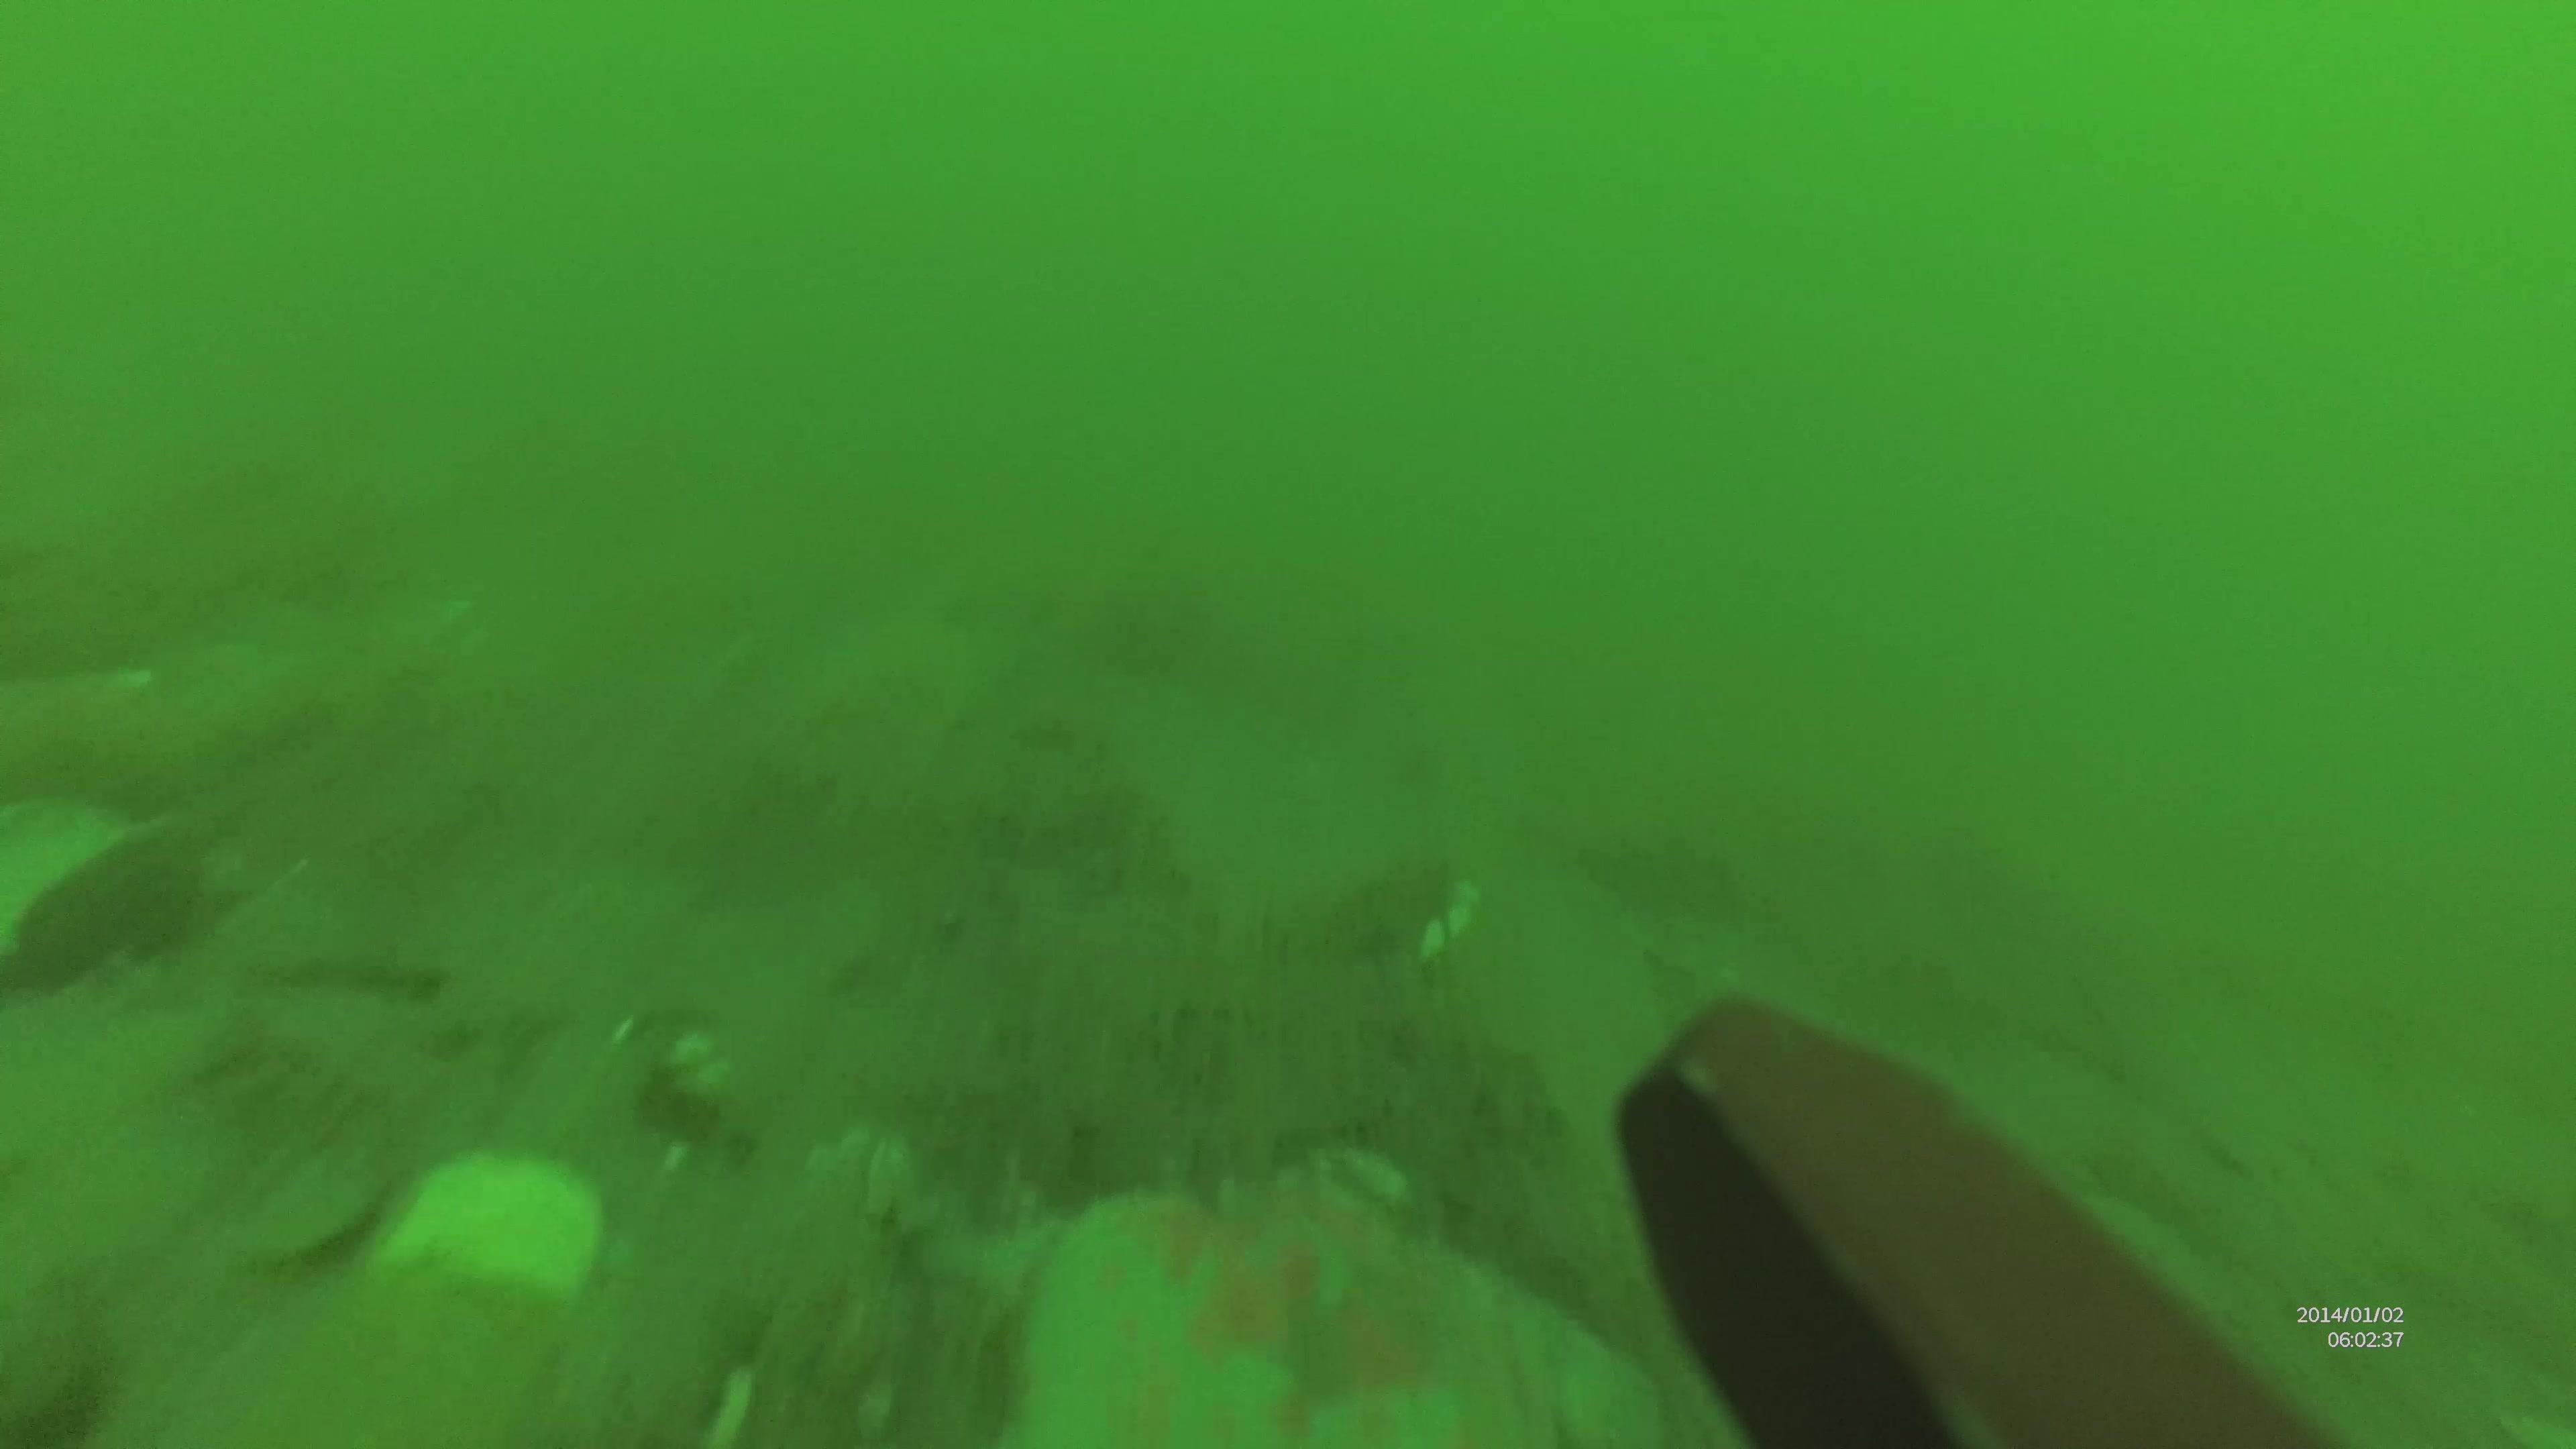starfish: (941, 1131, 1683, 1449)
